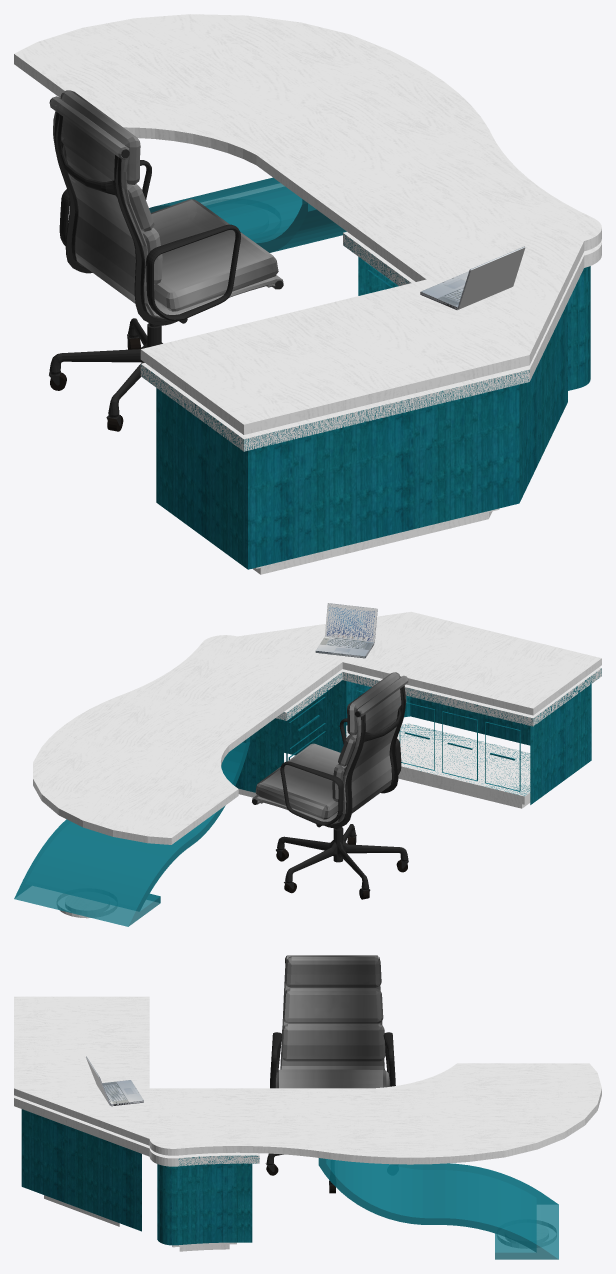
File: desk1.dae
3 renders of one model, top to bottom at view 1: azimuth 30°, elevation 25°; view 2: azimuth 150°, elevation 25°; view 3: azimuth 270°, elevation 25°, orthographic. The views are drawn at different scales.
Parts seen in each view (by area): view 1: SketchUp (×15), instance_1 (×2); view 2: SketchUp (×16), instance_1 (×2); view 3: SketchUp (×13), instance_1.
Part boxes in pixels (x1,y1,x2,y2): SketchUp (×15): (14,14,601,574); instance_1 (×2): (421,248,525,309); SketchUp (×16): (14,611,601,926); instance_1 (×2): (316,603,377,656); SketchUp (×13): (14,955,601,1259); instance_1: (102,1080,143,1104).
Bounding box in the file's own units: 99.53 × 154 × 55.35.
